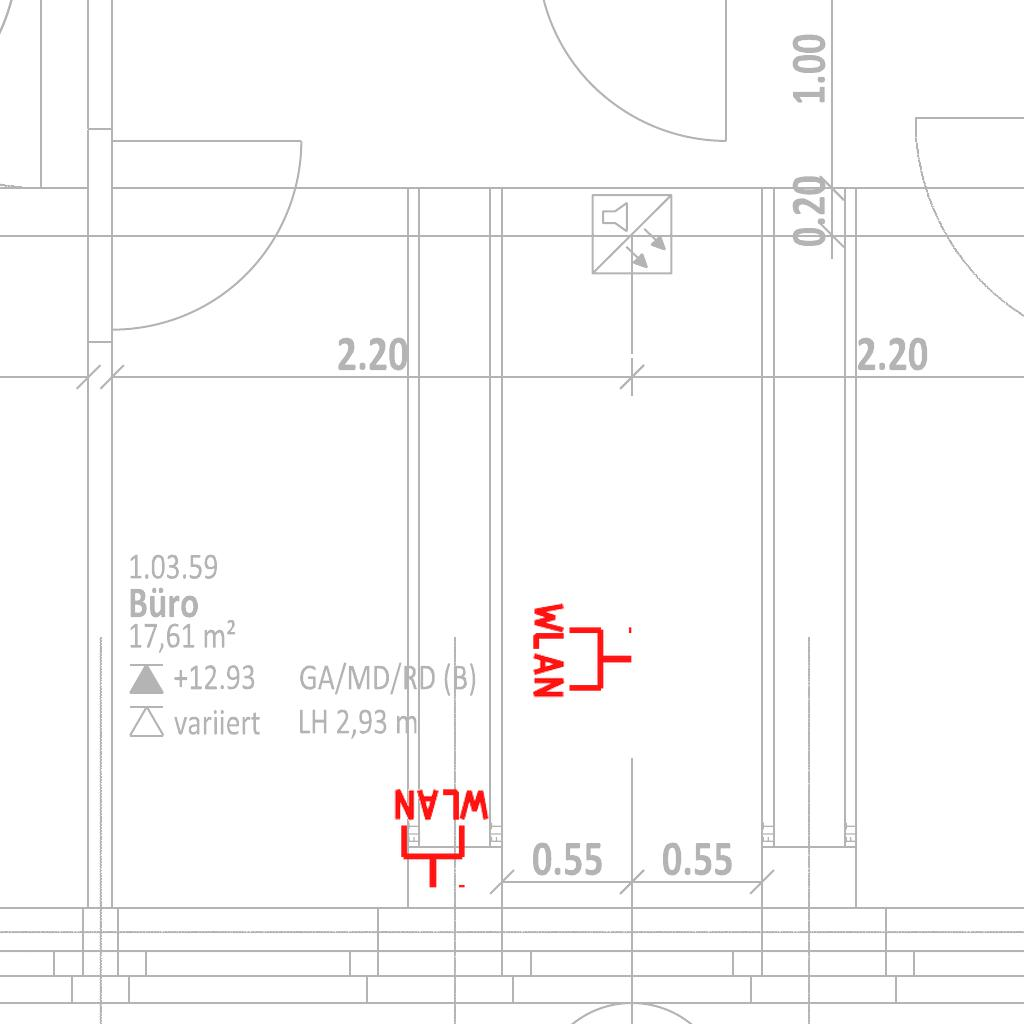WLAN: (390, 787, 494, 892), (531, 598, 636, 702)
